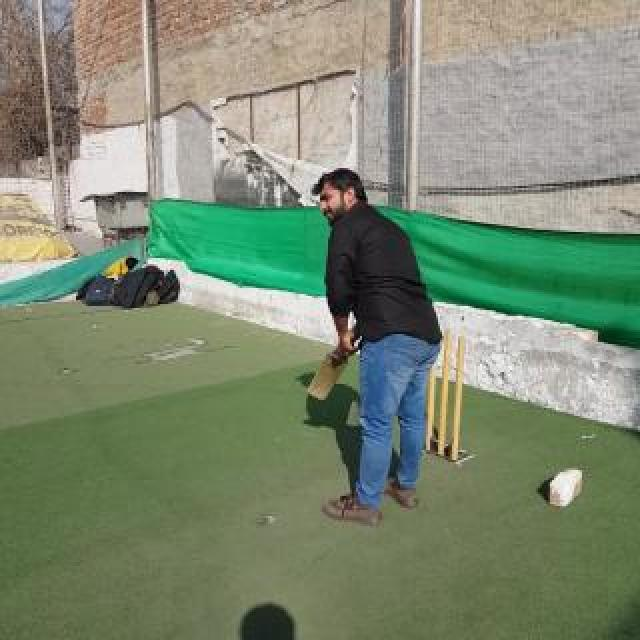bat: (306, 351, 348, 401)
